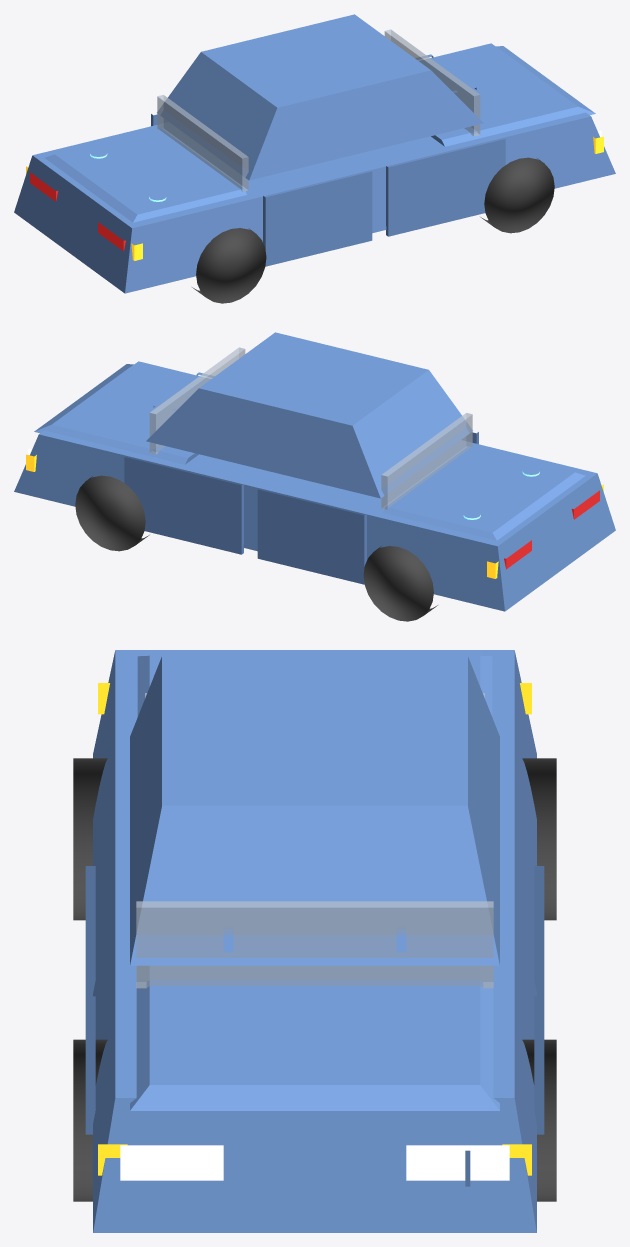
Rendered from sedan.gltf.
3 renders of one model, top to bottom at view 1: azimuth 30°, elevation 25°; view 2: azimuth 150°, elevation 25°; view 3: azimuth 270°, elevation 25°, orthographic. The views are drawn at different scales.
Visible parts, largest first — view 1: cabin, body, trunklid, hood, door_FR, door_RR, wheel_FR, wheel_RR, rear_window, windshield; view 2: cabin, body, trunklid, hood, door_FL, door_RL, wheel_FL, wheel_RL, rear_window, windshield; view 3: cabin, body, hood, windshield, headlight_R, headlight_L, wheel_RL, wheel_RR, wheel_FL, wheel_FR, trunklid, door_FL (+3 smaller).
Boxes of the visible parts, box(x1,y1,x2,y2) form: cabin: box(157, 14, 483, 180); body: box(14, 43, 615, 293); trunklid: box(44, 128, 246, 222); hood: box(423, 46, 595, 146); door_FR: box(386, 139, 505, 236); door_RR: box(263, 171, 372, 266); wheel_FR: box(480, 157, 554, 233); wheel_RR: box(192, 228, 266, 303); rear_window: box(157, 95, 248, 191); windshield: box(384, 29, 480, 136); cabin: box(146, 332, 472, 498); body: box(14, 361, 615, 611); trunklid: box(383, 446, 585, 540); hood: box(34, 364, 206, 464); door_FL: box(124, 457, 243, 554); door_RL: box(257, 489, 366, 584); wheel_FL: box(75, 475, 149, 551); wheel_RL: box(363, 546, 437, 621); rear_window: box(381, 413, 472, 509); windshield: box(149, 347, 245, 454); cabin: box(130, 655, 499, 965); body: box(93, 650, 536, 1232); hood: box(130, 966, 499, 1110); windshield: box(136, 901, 493, 988); headlight_R: box(120, 1145, 223, 1180); headlight_L: box(406, 1145, 509, 1180); wheel_RL: box(522, 758, 556, 920); wheel_RR: box(73, 758, 107, 920); wheel_FL: box(522, 1039, 556, 1201); wheel_FR: box(73, 1039, 107, 1201); trunklid: box(137, 655, 492, 716); door_FL: box(534, 996, 544, 1134).
Size of the model in its own units: 4.6 by 1.45 by 1.96.
